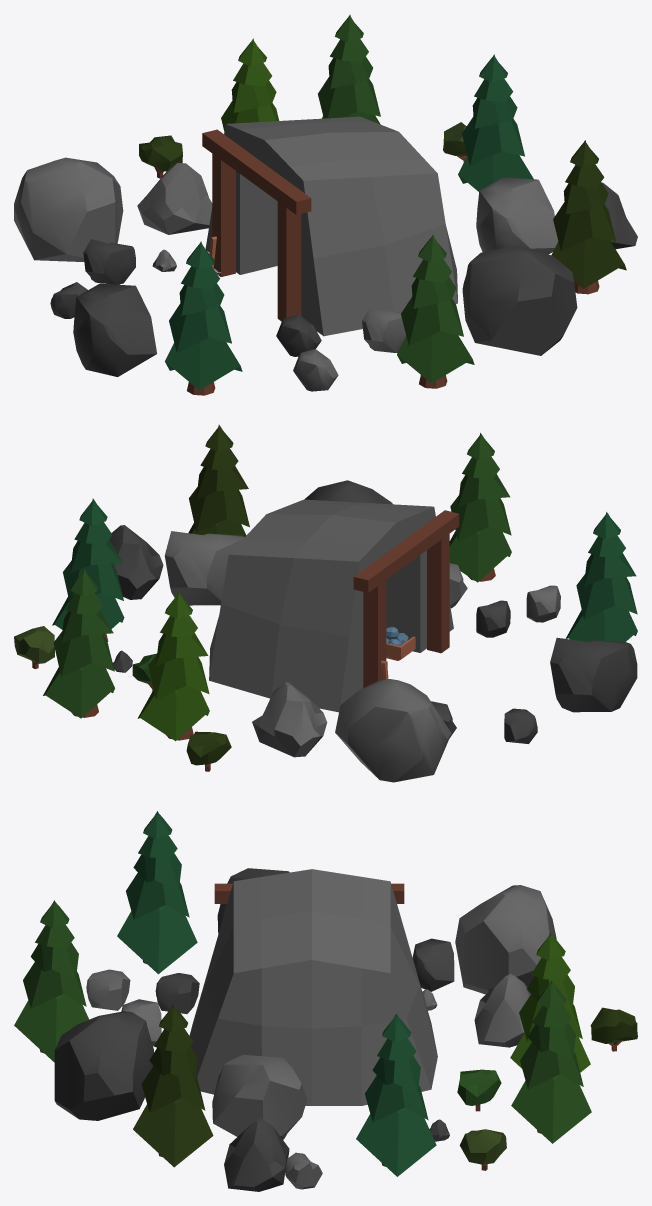
The model's file is MineLVL1.fbx.
The picture shows the model from 3 angles, top to bottom: view 1: azimuth 30°, elevation 25°; view 2: azimuth 150°, elevation 25°; view 3: azimuth 270°, elevation 25°; orthographic projection. The views are drawn at different scales.
Parts seen in each view (by area): view 1: Cube, Cube.004, Cube.018, Cube.001, ель.004, ель.006, ель.002, Cube.013, ель.003, Cube.007, ель.005, Cube.006 (+9 smaller); view 2: Cube, Cube.018, Cube.001, ель.005, ель.001, ель.004, ель.006, Cube.013, ель.002, Cube.007, ель.003, Cube.006 (+8 smaller); view 3: Cube, Cube.004, Cube.018, ель.005, ель.002, ель.003, ель.006, ель.004, Cube.007, Cube.012, ель.001, Cube.006 (+10 smaller).
Boxes of the visible parts, x1=… form: Cube: x1=205, y1=116, x2=457, y2=336; Cube.004: x1=462, y1=245, x2=577, y2=355; Cube.018: x1=14, y1=157, x2=123, y2=261; Cube.001: x1=202, y1=129, x2=311, y2=321; ель.004: x1=397, y1=234, x2=474, y2=388; ель.006: x1=165, y1=241, x2=242, y2=395; ель.002: x1=551, y1=140, x2=626, y2=294; Cube.013: x1=73, y1=283, x2=156, y2=376; ель.003: x1=458, y1=54, x2=533, y2=191; Cube.007: x1=476, y1=177, x2=558, y2=254; ель.005: x1=318, y1=14, x2=380, y2=124; Cube.006: x1=137, y1=163, x2=212, y2=234; Cube: x1=209, y1=499, x2=453, y2=712; Cube.018: x1=335, y1=679, x2=451, y2=782; Cube.001: x1=353, y1=510, x2=459, y2=687; ель.005: x1=43, y1=569, x2=114, y2=718; ель.001: x1=137, y1=591, x2=209, y2=741; ель.004: x1=449, y1=433, x2=511, y2=582; ель.006: x1=565, y1=512, x2=637, y2=642; Cube.013: x1=550, y1=637, x2=637, y2=712; ель.002: x1=188, y1=425, x2=249, y2=536; Cube.007: x1=164, y1=531, x2=244, y2=605; ель.003: x1=52, y1=498, x2=124, y2=641; Cube.006: x1=252, y1=682, x2=327, y2=757; Cube: x1=189, y1=869, x2=437, y2=1105; Cube.004: x1=54, y1=1011, x2=153, y2=1120; Cube.018: x1=455, y1=885, x2=556, y2=994; ель.005: x1=511, y1=980, x2=591, y2=1143; ель.002: x1=133, y1=1004, x2=213, y2=1167; ель.003: x1=356, y1=1014, x2=436, y2=1176; ель.006: x1=117, y1=811, x2=197, y2=974; ель.004: x1=14, y1=900, x2=88, y2=1062; Cube.007: x1=212, y1=1054, x2=307, y2=1139; Cube.012: x1=224, y1=1118, x2=289, y2=1191; ель.001: x1=510, y1=933, x2=590, y2=1072; Cube.006: x1=474, y1=973, x2=530, y2=1047.
Bounding box in the file's own units: 819 × 228 × 796.
